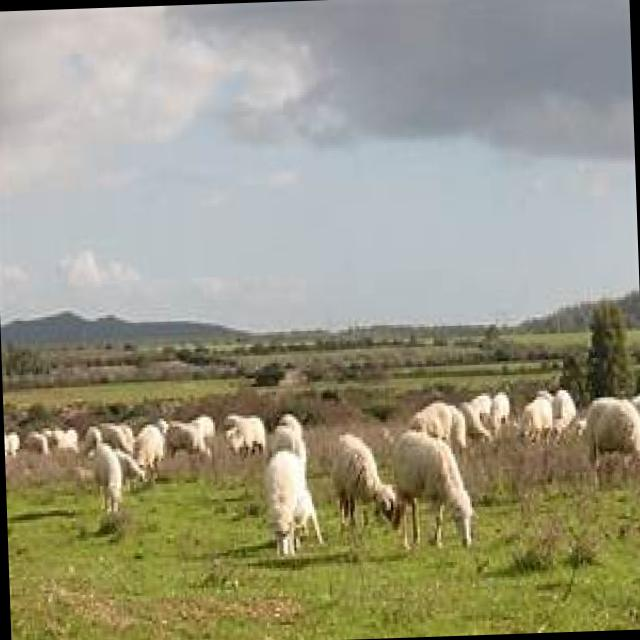animal: (388, 424, 475, 549), (326, 429, 398, 532), (263, 446, 324, 556), (581, 393, 640, 486), (408, 400, 472, 462), (90, 438, 124, 519), (522, 388, 564, 446), (166, 419, 215, 464), (223, 412, 265, 458), (134, 421, 167, 477)
